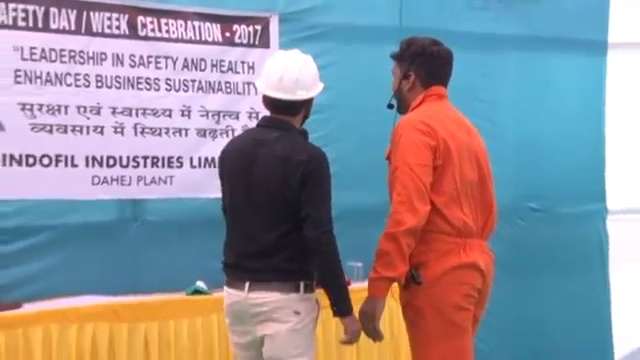helmet: (254, 46, 324, 101)
helmet_off: (387, 36, 454, 117)
helmet_on: (253, 46, 325, 128)
person: (359, 36, 498, 360), (219, 45, 360, 360)
